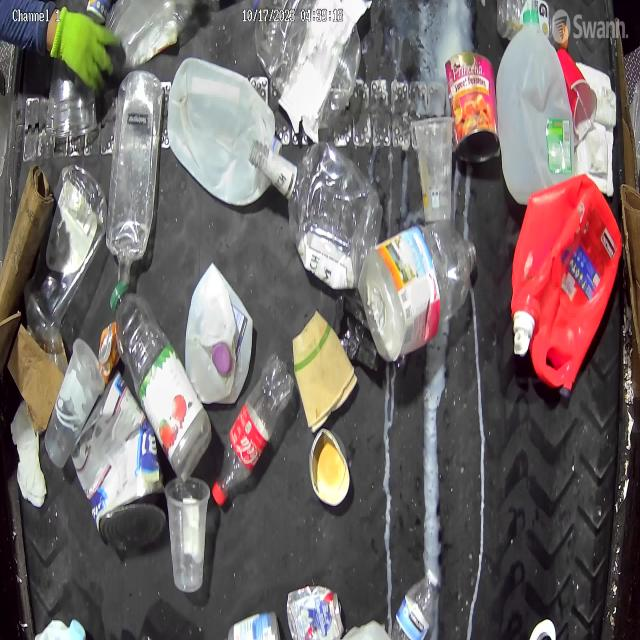milk-jug: (494, 7, 577, 204), (184, 258, 258, 409)
